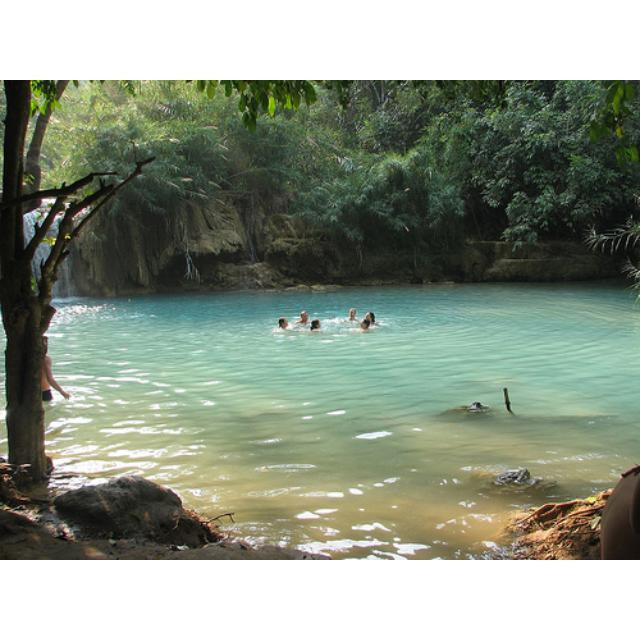human: (277, 313, 292, 332), (297, 309, 311, 326), (356, 316, 370, 332), (312, 319, 327, 331), (364, 310, 376, 325), (348, 305, 359, 319)
